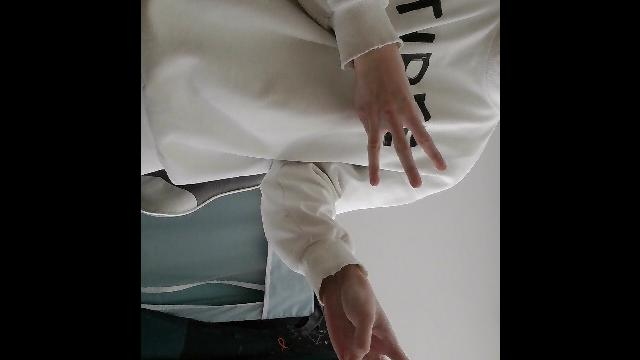three: (358, 42, 448, 186), (318, 265, 433, 360)
